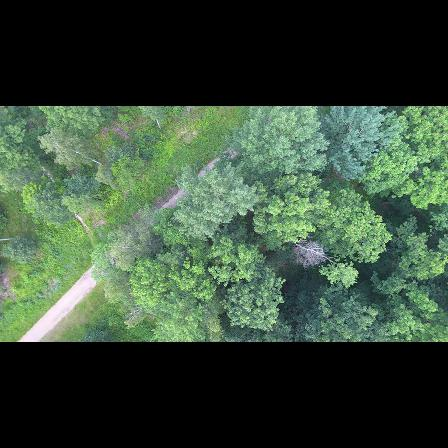Dead: (284, 235, 329, 268)
